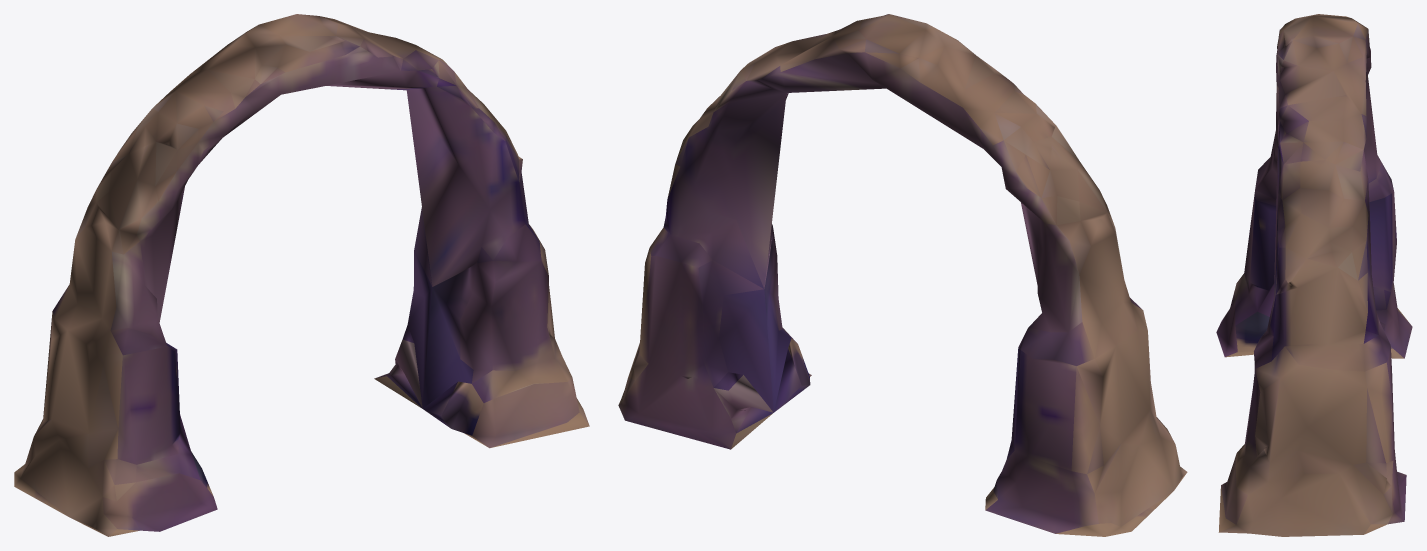
Rendered from portal_arch.glb.
3 renders of one model, left to right at view 1: azimuth 30°, elevation 25°; view 2: azimuth 150°, elevation 25°; view 3: azimuth 270°, elevation 25°, orthographic. The views are drawn at different scales.
Visible parts, largest first — view 1: tmp1aeohjq2.ply.001; view 2: tmp1aeohjq2.ply.001; view 3: tmp1aeohjq2.ply.001.
Part boxes in pixels (x1,y1,x2,y2): tmp1aeohjq2.ply.001: (14, 14, 589, 536); tmp1aeohjq2.ply.001: (618, 14, 1187, 536); tmp1aeohjq2.ply.001: (1216, 14, 1412, 536).
Bounding box in the file's own units: 1.27 × 0.9915 × 0.445.
1 material, 1 textured.
